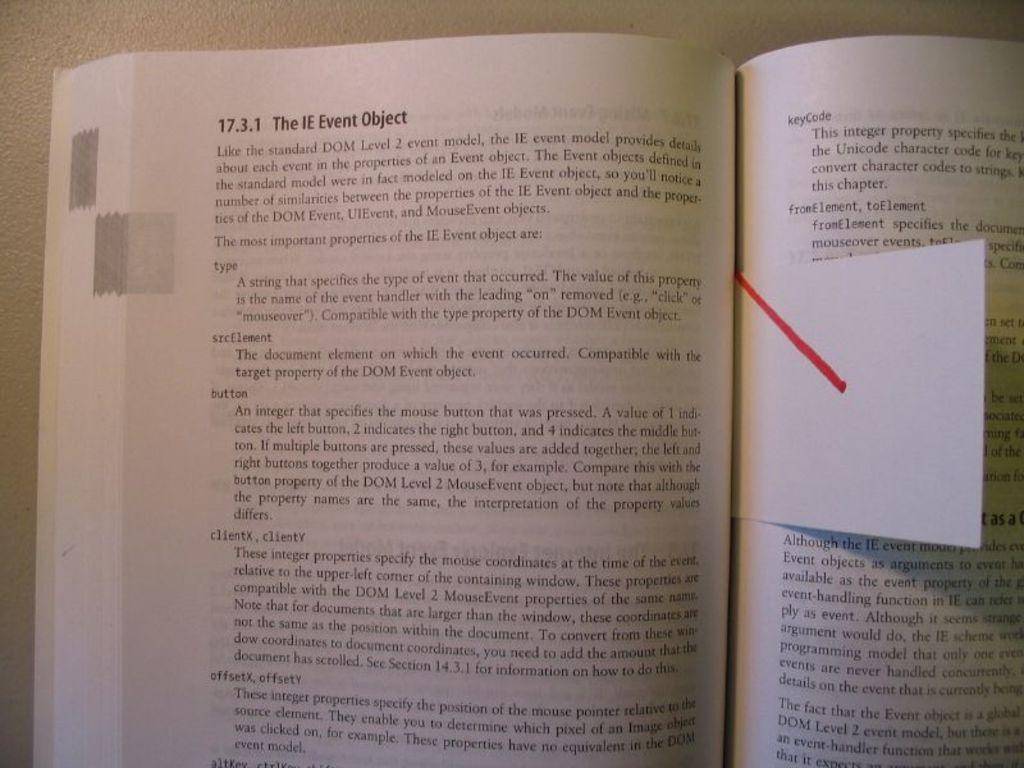Book: (27, 60, 1023, 767)
